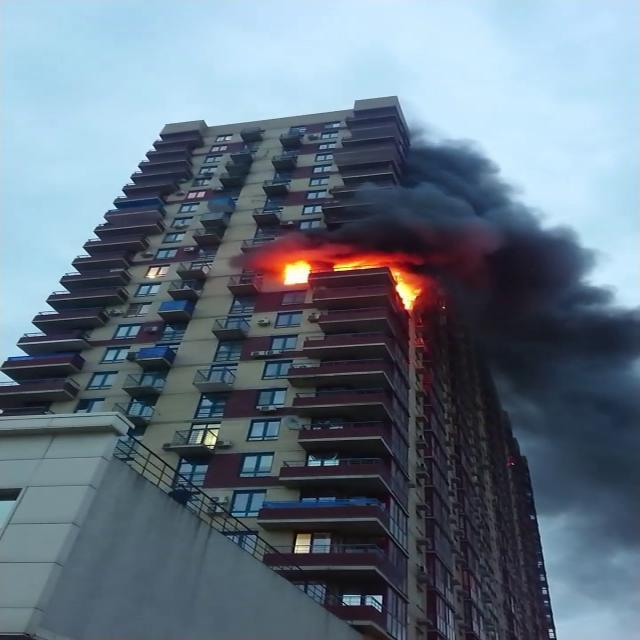Fire: (268, 247, 386, 285), (390, 265, 424, 310)
Smoke: (443, 215, 639, 534), (303, 127, 613, 265)
